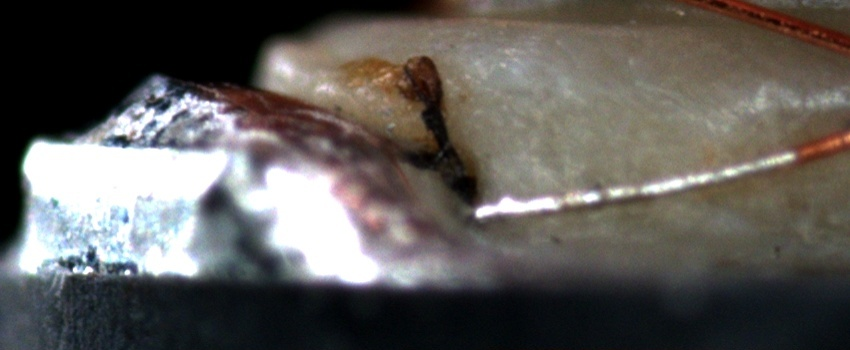DL: (597, 82, 850, 127)
TS: (474, 149, 794, 224)
